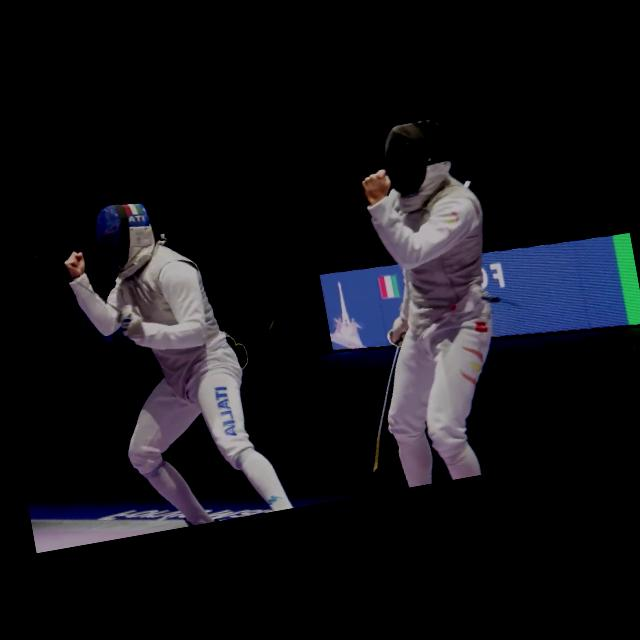blade: (0, 213, 140, 344), (340, 324, 434, 476)
